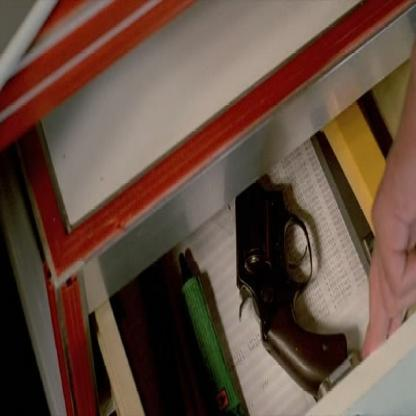gun: (235, 191, 353, 400)
